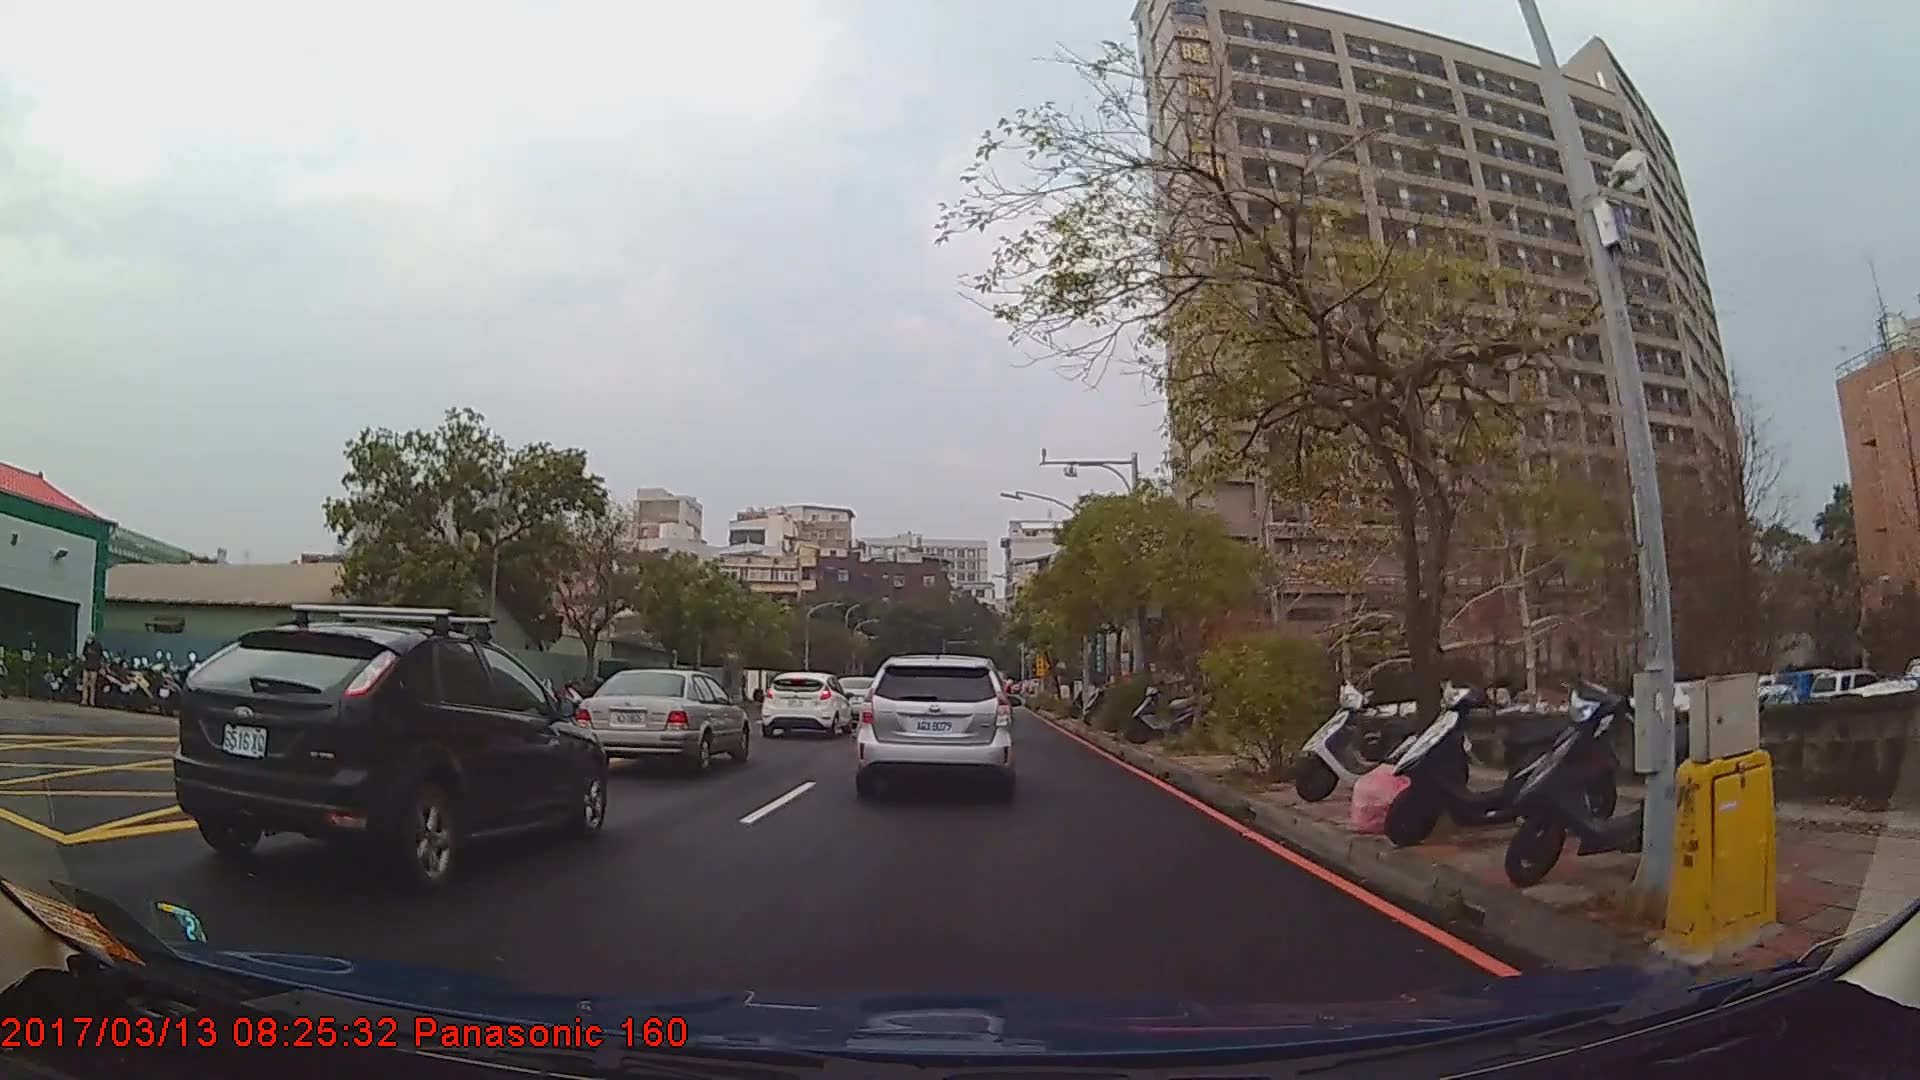pedestrian: (80, 634, 105, 710)
vehicle: (172, 622, 608, 888), (854, 650, 1012, 798), (571, 669, 749, 774), (761, 670, 855, 741)
